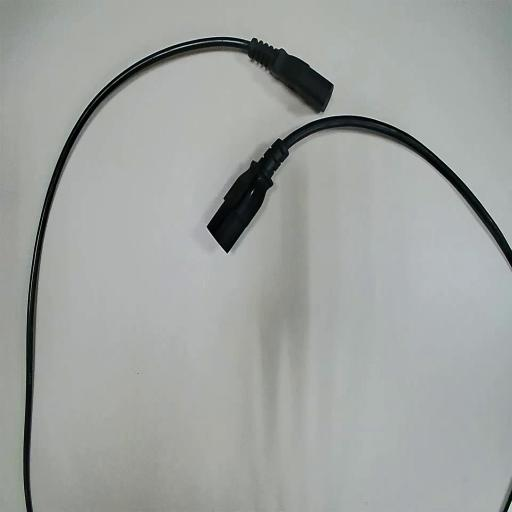wire: (24, 38, 331, 511), (208, 116, 511, 264)
